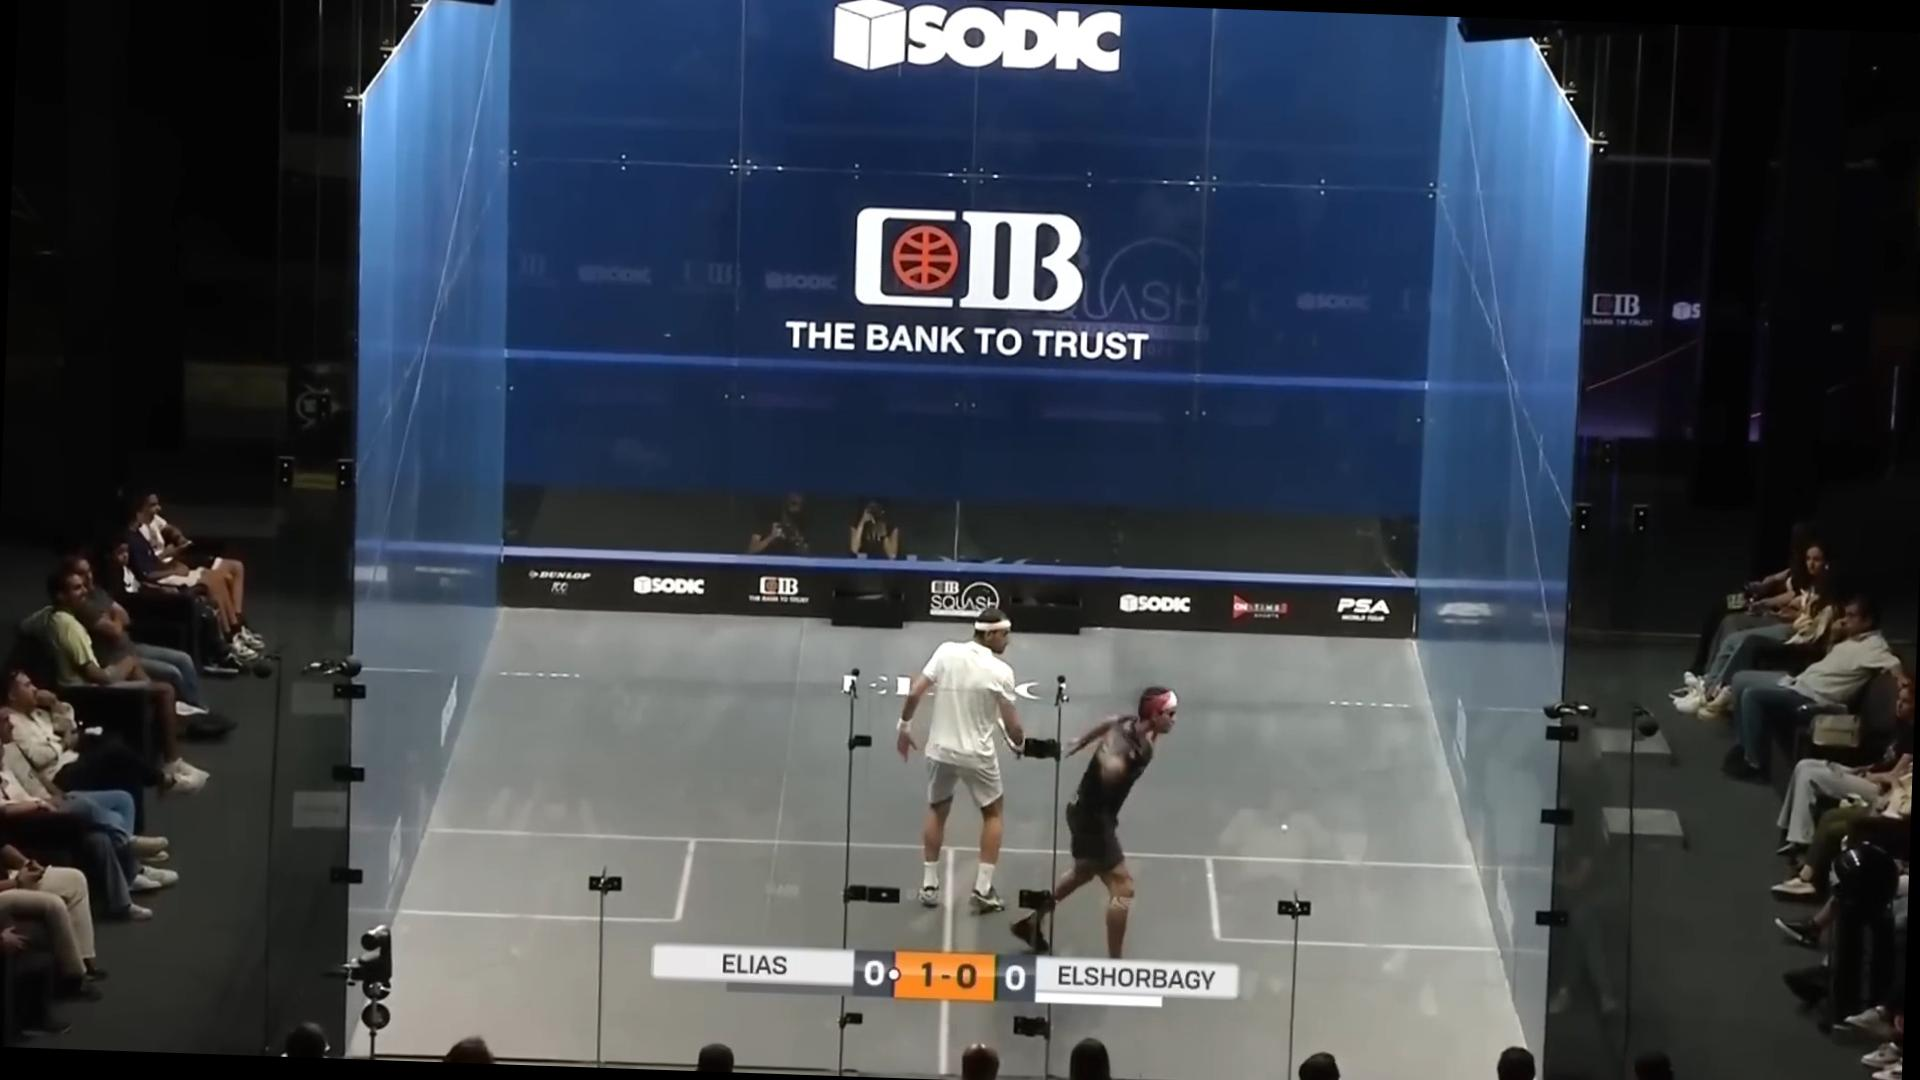Squash-Ball: (1263, 803, 1302, 849)
